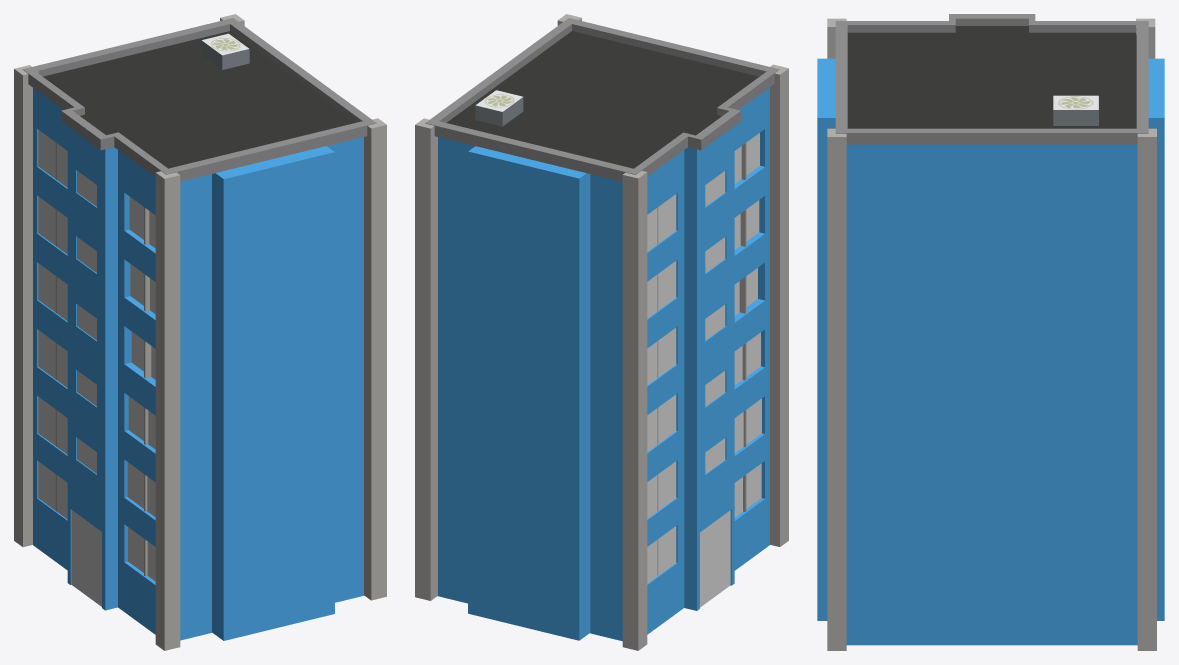
File: putong_xiaoxing07.fbx
3 views of the same model, side by side, from view 1: azimuth 30°, elevation 25°; view 2: azimuth 150°, elevation 25°; view 3: azimuth 270°, elevation 25° (orthographic). The views are drawn at different scales.
Parts seen in each view (by area): view 1: putong_xiaoxing07; view 2: putong_xiaoxing07; view 3: putong_xiaoxing07.
Boxes of the visible parts, x1=… form: putong_xiaoxing07: x1=14, y1=14, x2=386, y2=650; putong_xiaoxing07: x1=415, y1=14, x2=788, y2=650; putong_xiaoxing07: x1=817, y1=14, x2=1164, y2=650.
Size of the model in its own units: 4.23 by 5.08 by 8.44.
